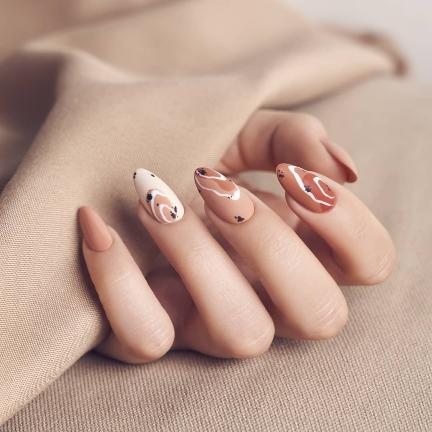Nail: (194, 167, 255, 224), (276, 164, 337, 213), (133, 169, 185, 224), (321, 139, 357, 182), (80, 208, 113, 251)
